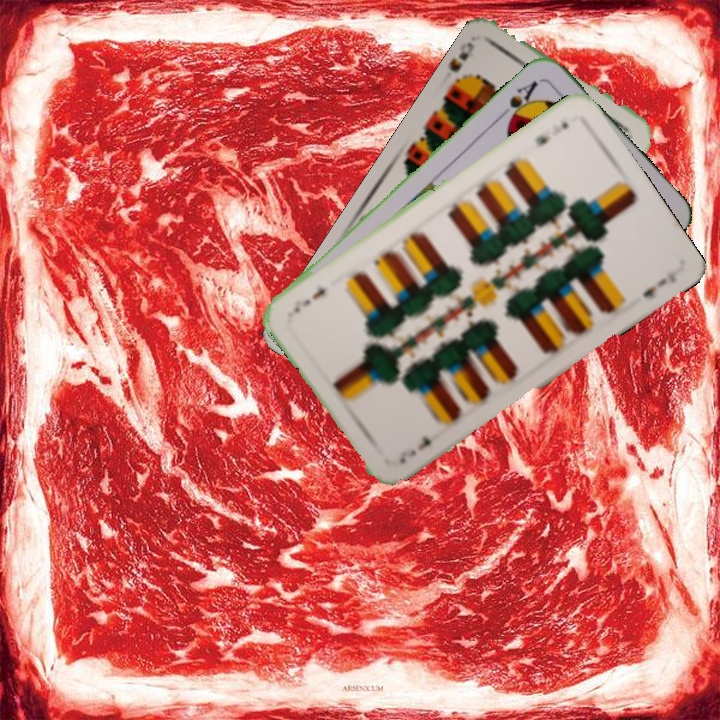E7: (395, 432, 434, 466), (530, 117, 571, 149)
S9: (447, 37, 477, 91)
SA: (495, 76, 541, 127)
